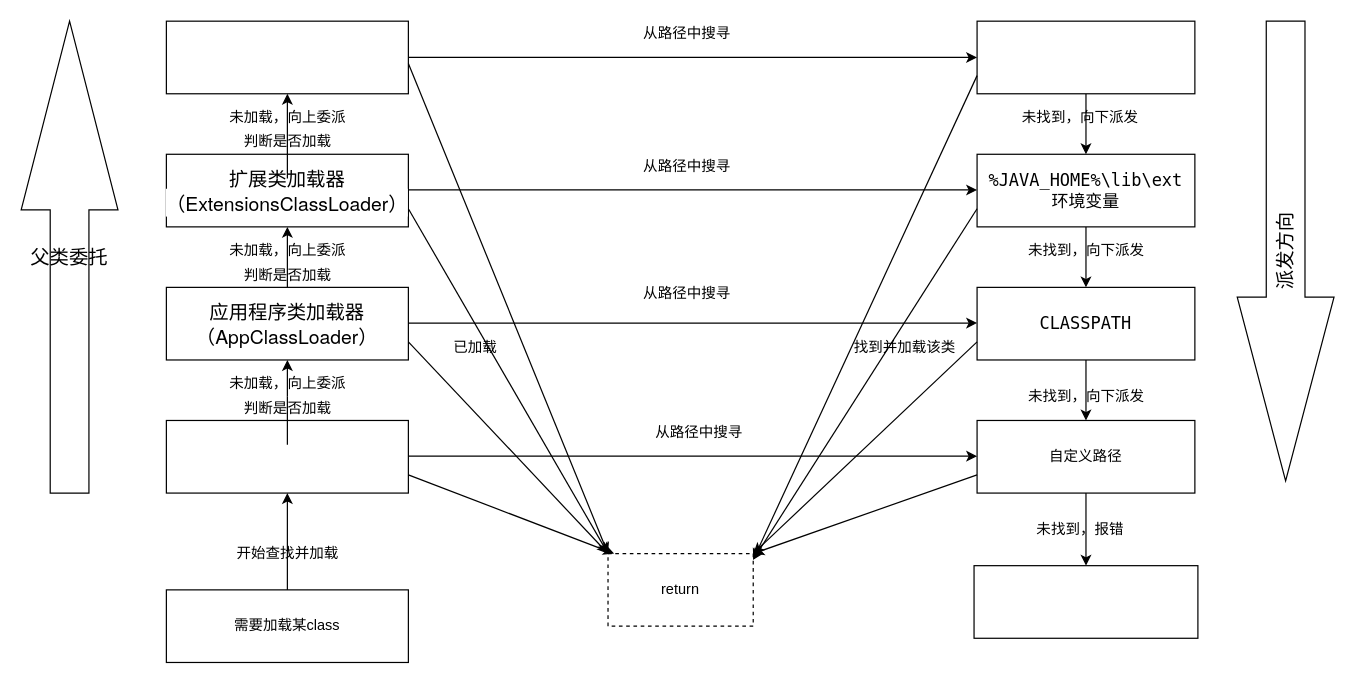
Image size: 1355x684. Some labels were removed from this diagram. Here are the shapes that lost their labels. From the top down, the centre of each, then its label:
point 286,57: 引导类加载器 （BootstrapClassLoader)
point 1085,57: %JAVA_HOME%\lib 指定路径
point 286,456: 自定义类加载器（UserDefineClassLoader）
point 1085,601: ClassNotFoundException
